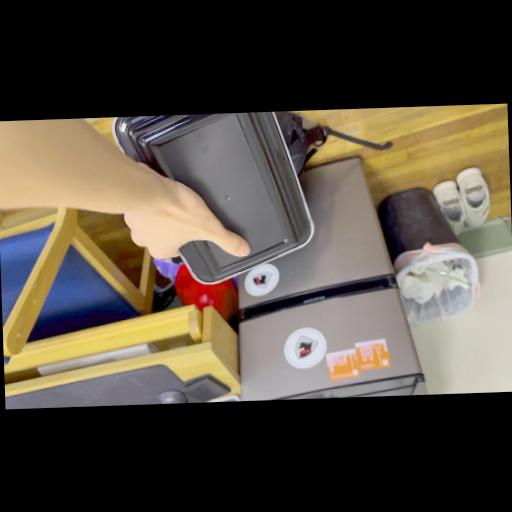rigid_plastic_container: (108, 110, 340, 316)
